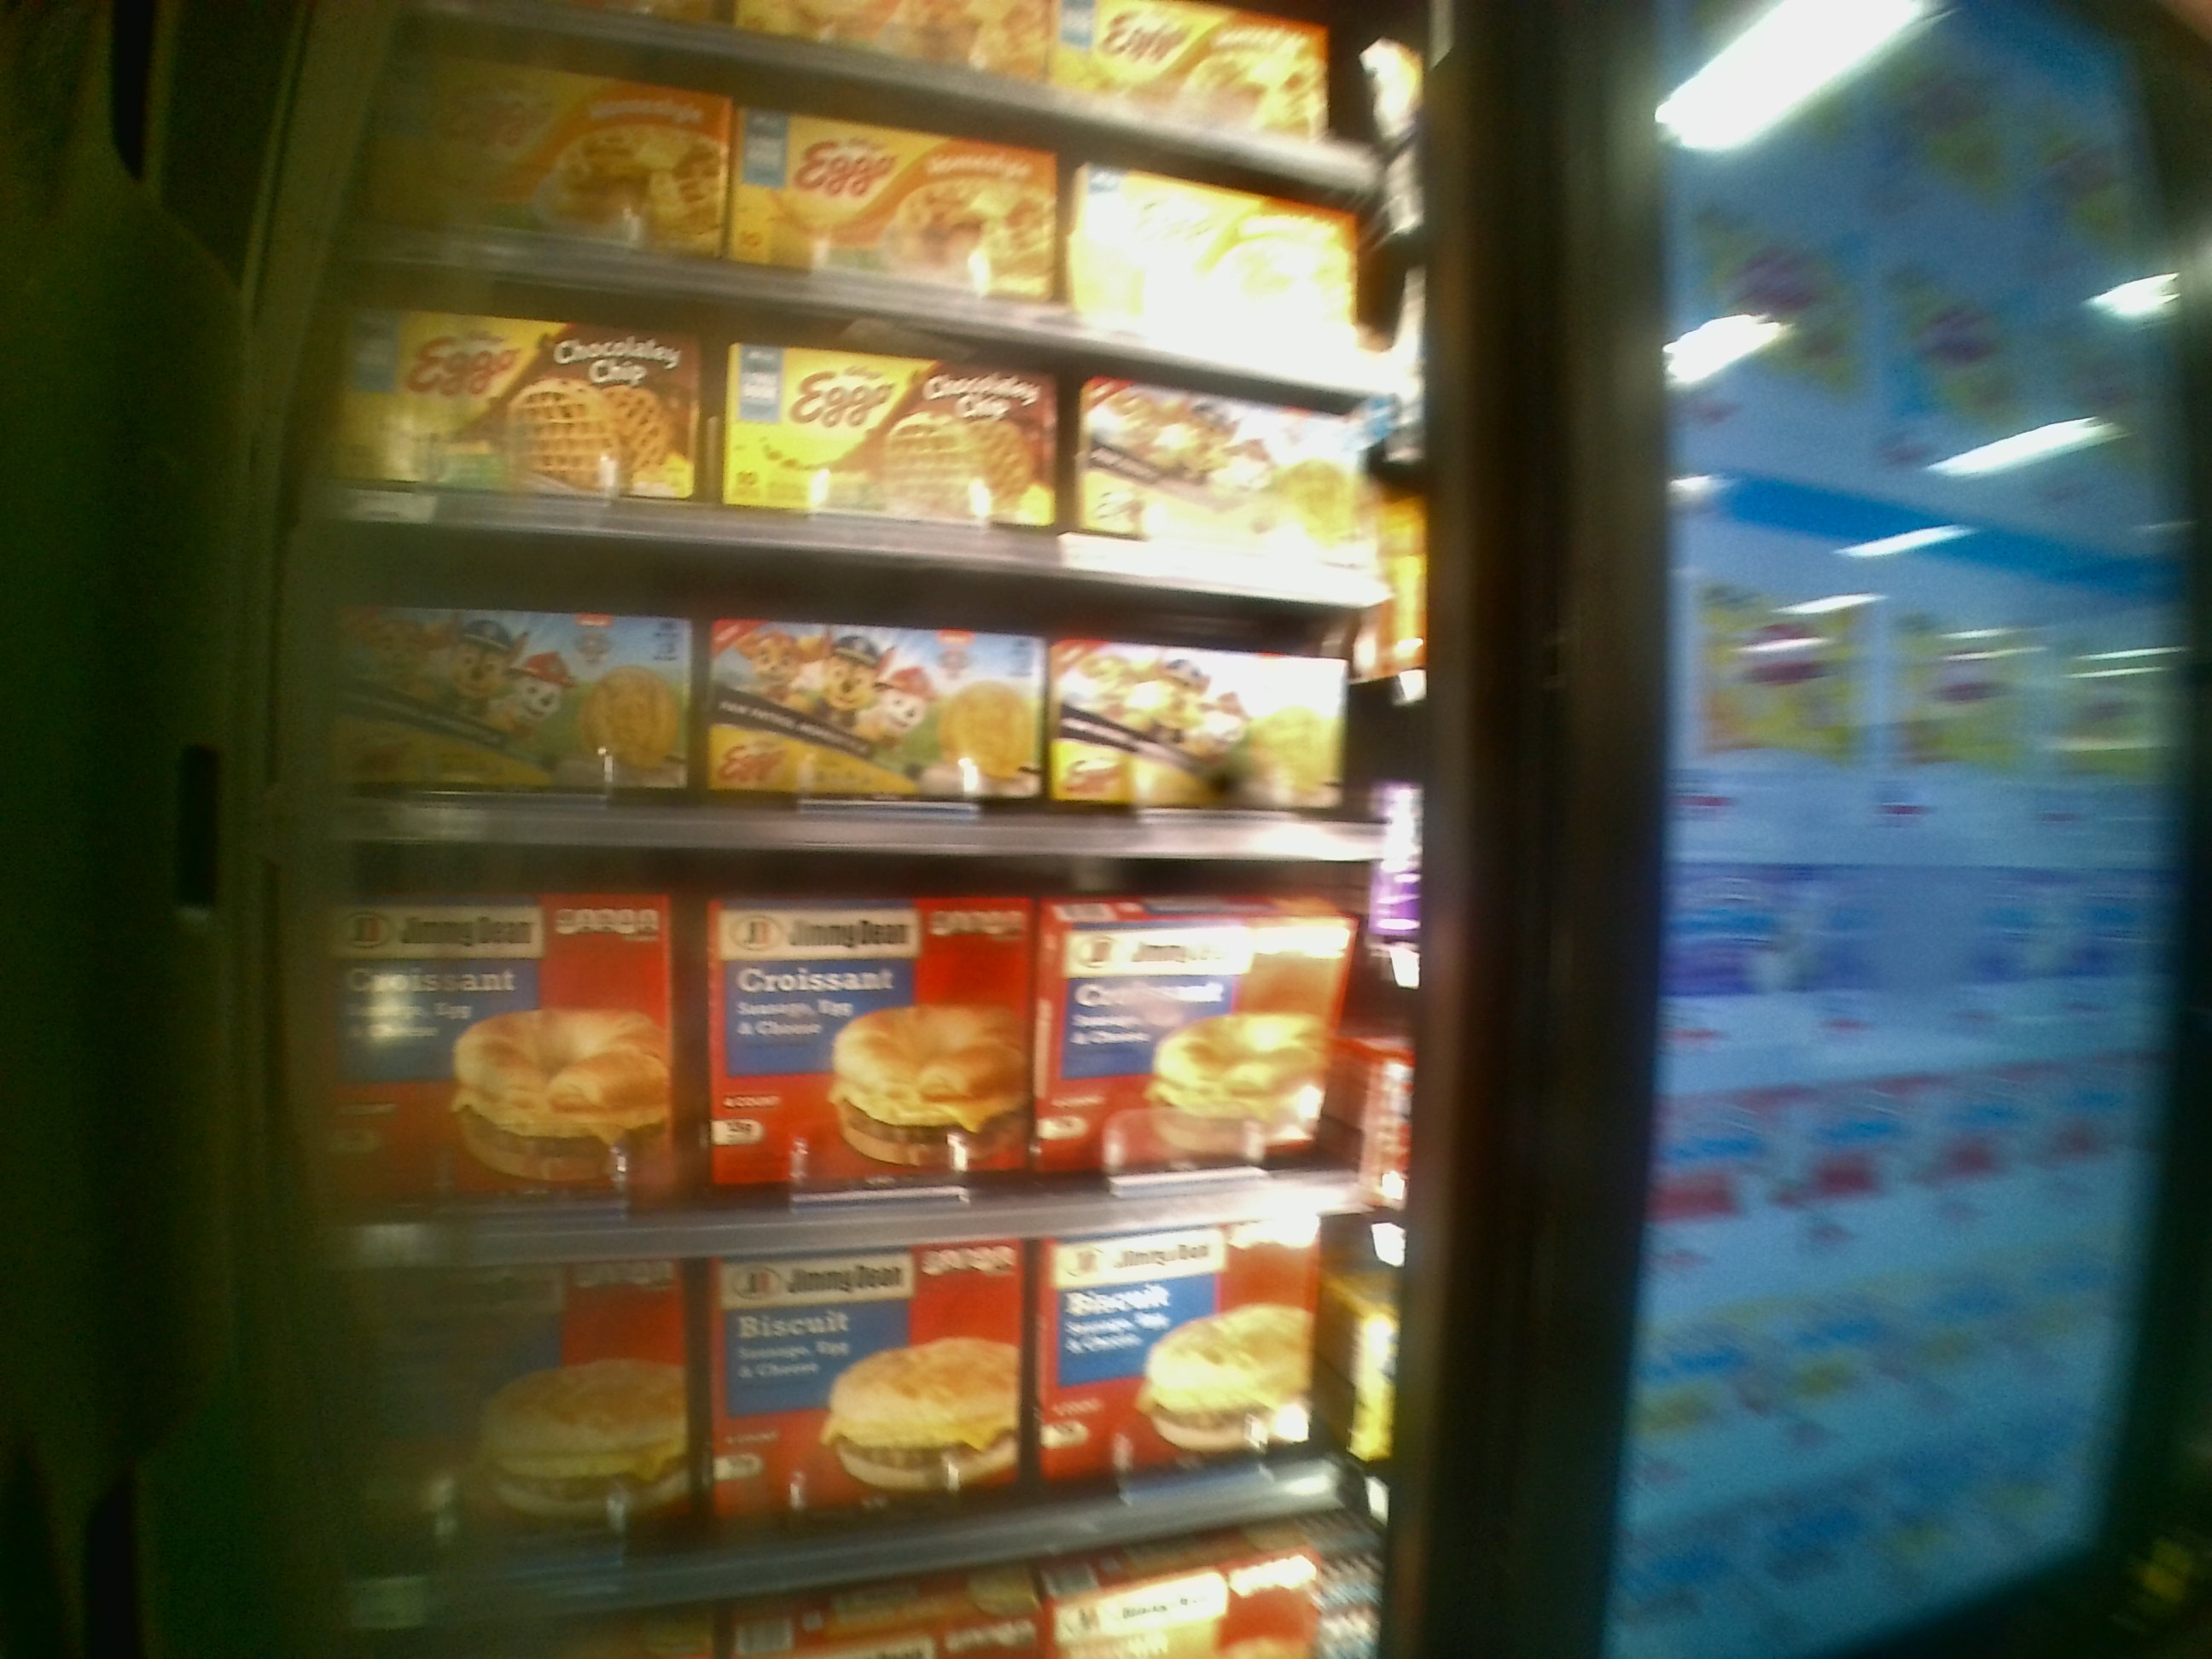shelf: (301, 857, 1395, 1270), (303, 512, 1407, 864)
